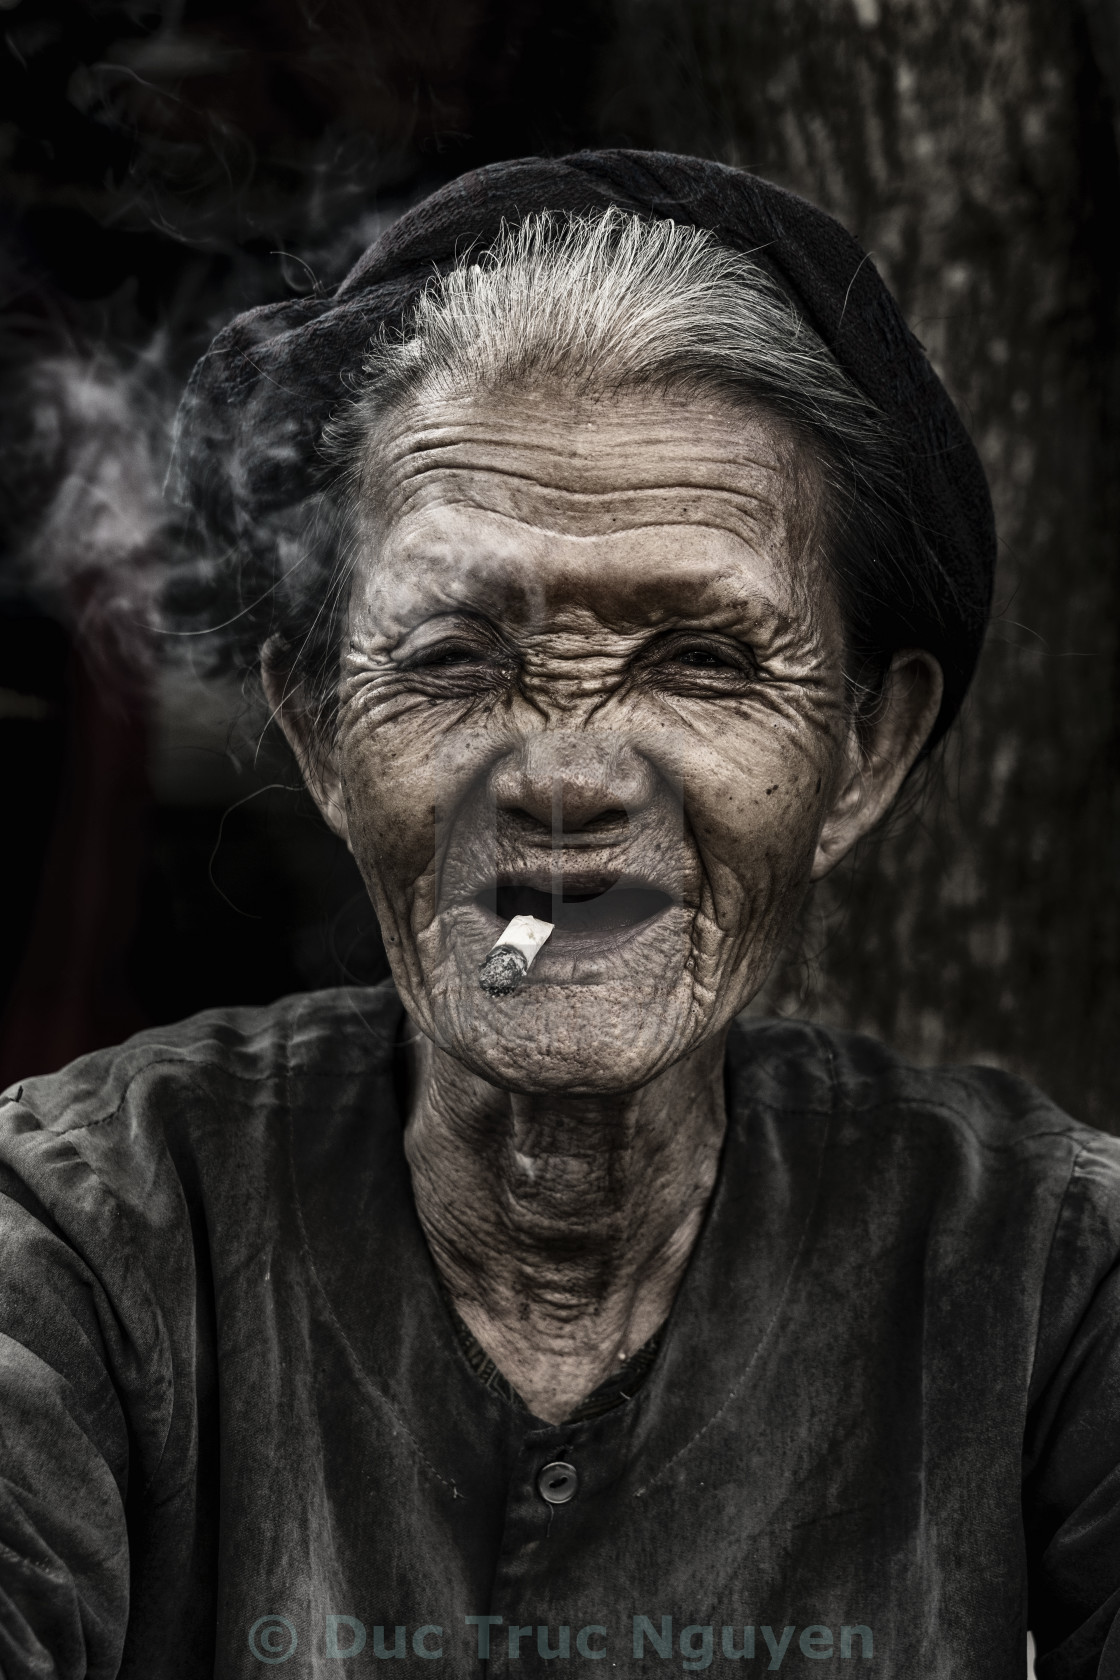cigarette: (472, 870, 552, 1009)
